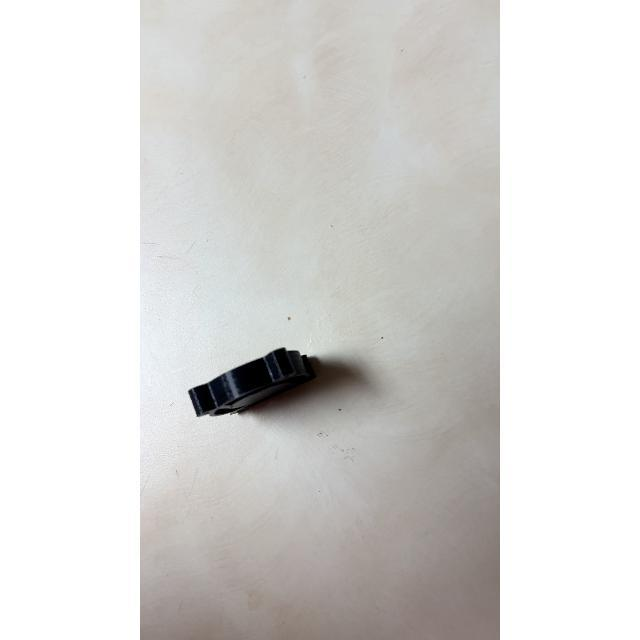Pieza4: (177, 340, 337, 432)
